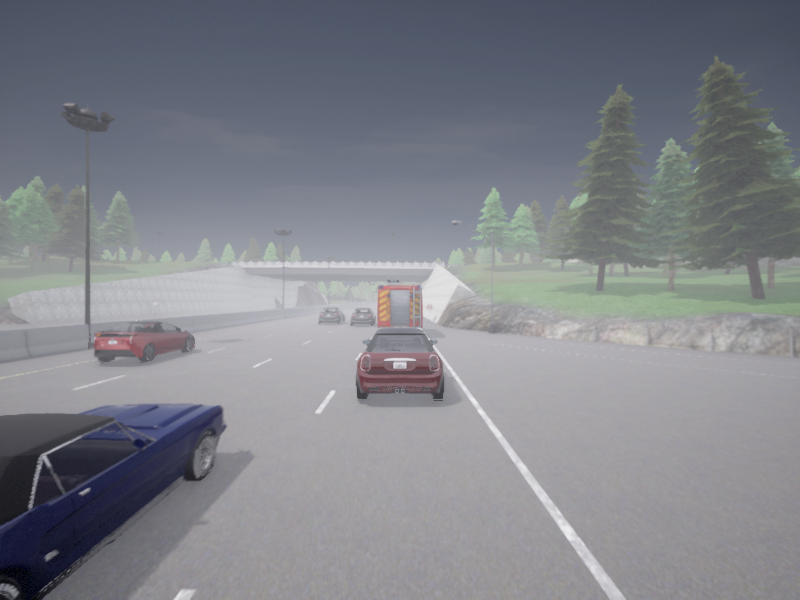vehicle: (0, 404, 225, 599), (355, 326, 444, 399), (93, 321, 194, 362), (378, 278, 422, 328), (351, 308, 375, 325), (319, 307, 344, 323)
